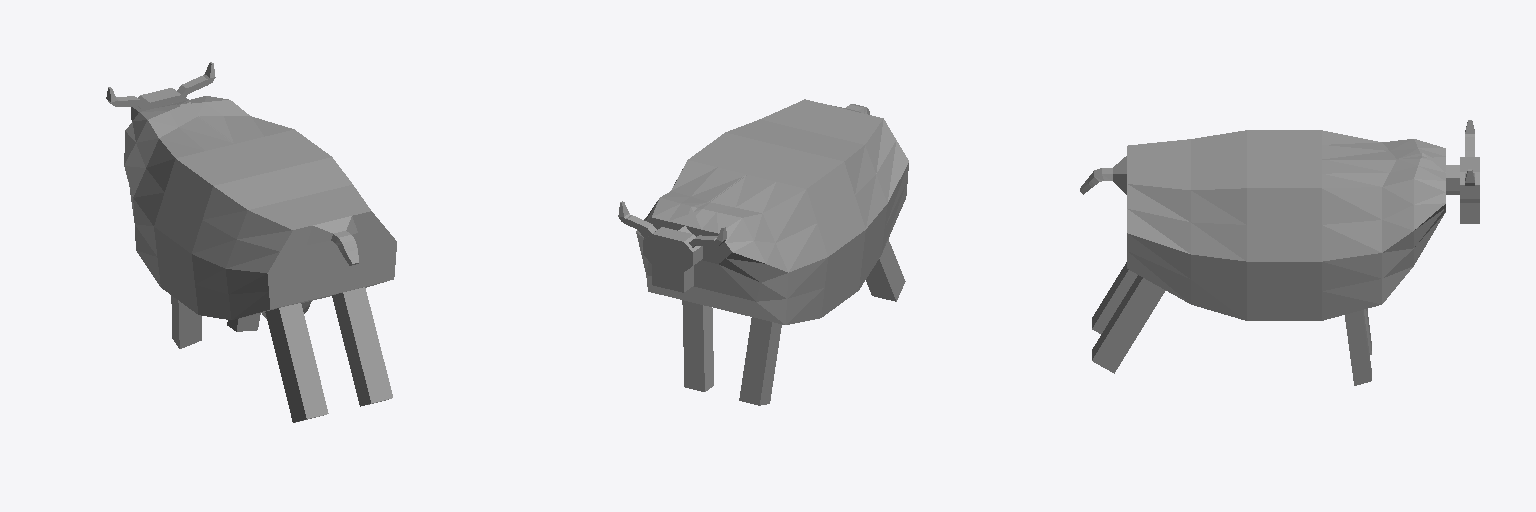
File: Cow.obj
The picture shows the model from 3 angles: view 1: azimuth 30°, elevation 25°; view 2: azimuth 150°, elevation 25°; view 3: azimuth 270°, elevation 25°; orthographic projection.
Parts seen in each view (by area): view 1: Cube; view 2: Cube; view 3: Cube.
Part boxes in pixels (x1,y1,x2,y2): Cube: (106, 62, 396, 422); Cube: (618, 99, 908, 405); Cube: (1080, 120, 1479, 385).
Size of the model in its own units: 0.9908 by 1.3 by 2.12.